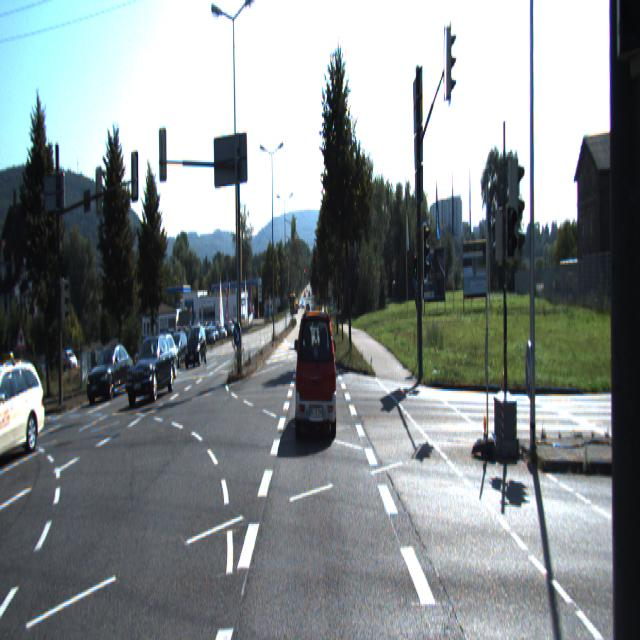Car: (296, 312, 337, 444), (0, 365, 46, 473), (126, 335, 176, 406), (87, 346, 131, 407), (184, 326, 207, 372)
